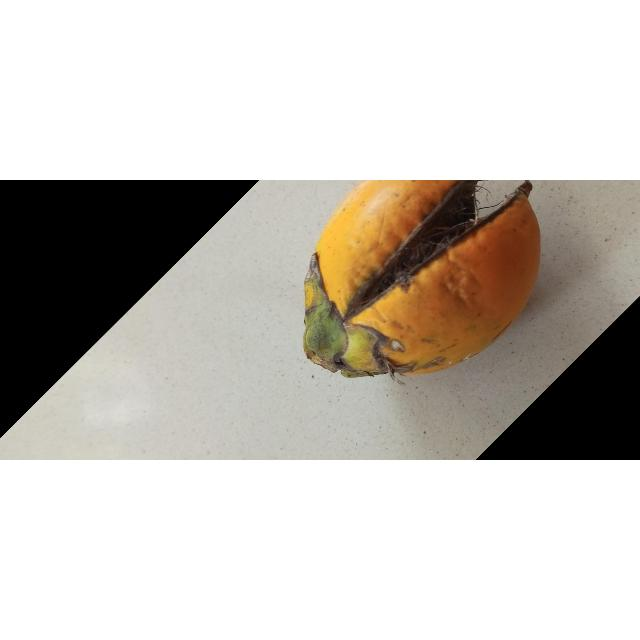damaged: (303, 180, 543, 379)
